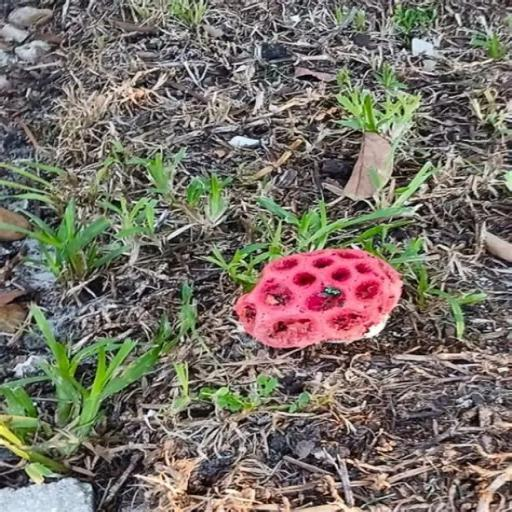mushroom: (237, 250, 403, 345)
